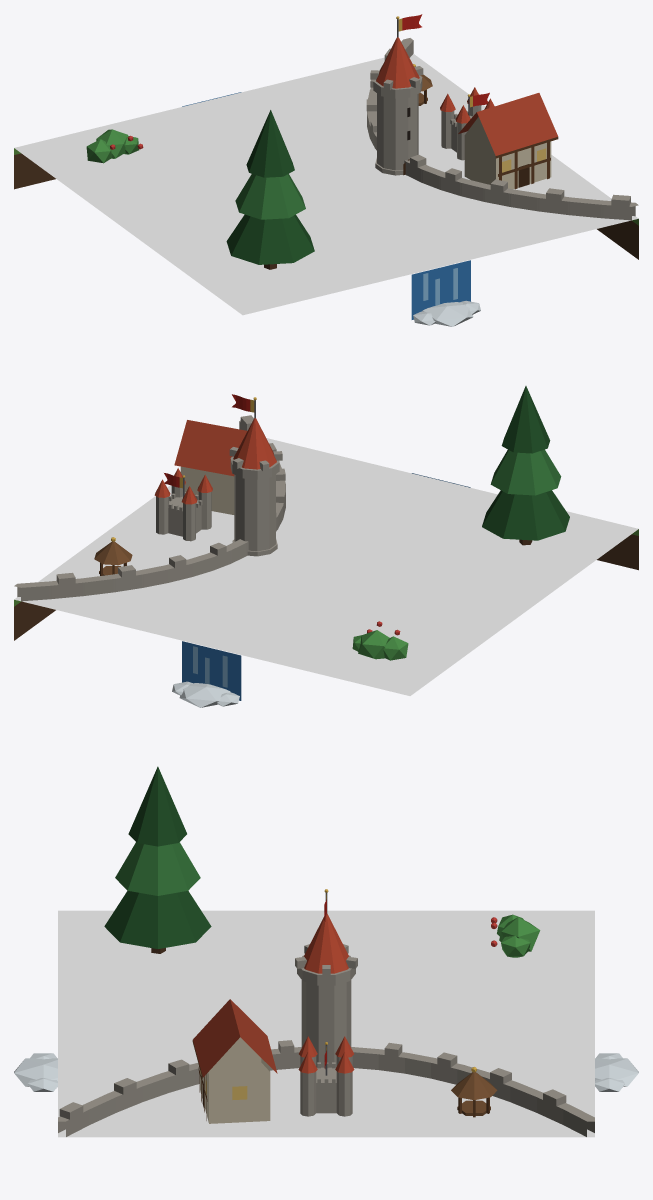
File: wCity.glb
The picture shows the model from 3 angles, top to bottom: view 1: azimuth 30°, elevation 25°; view 2: azimuth 150°, elevation 25°; view 3: azimuth 270°, elevation 25°; orthographic projection. The views are drawn at different scales.
Parts seen in each view (by area): view 1: wCity, fall_S; view 2: wCity, fall_N; view 3: wCity, fall_N, fall_S.
Part boxes in pixels (<box>): wCity: <box>14,14,638,315</box>; fall_S: <box>411,260,480,326</box>; wCity: <box>14,386,638,695</box>; fall_N: <box>172,641,241,707</box>; wCity: <box>58,766,594,1137</box>; fall_N: <box>595,1053,638,1091</box>; fall_S: <box>14,1053,57,1091</box>.
Size of the model in its own units: 2 by 0.9925 by 2.33.
